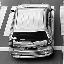mobil: (7, 2, 56, 59)
